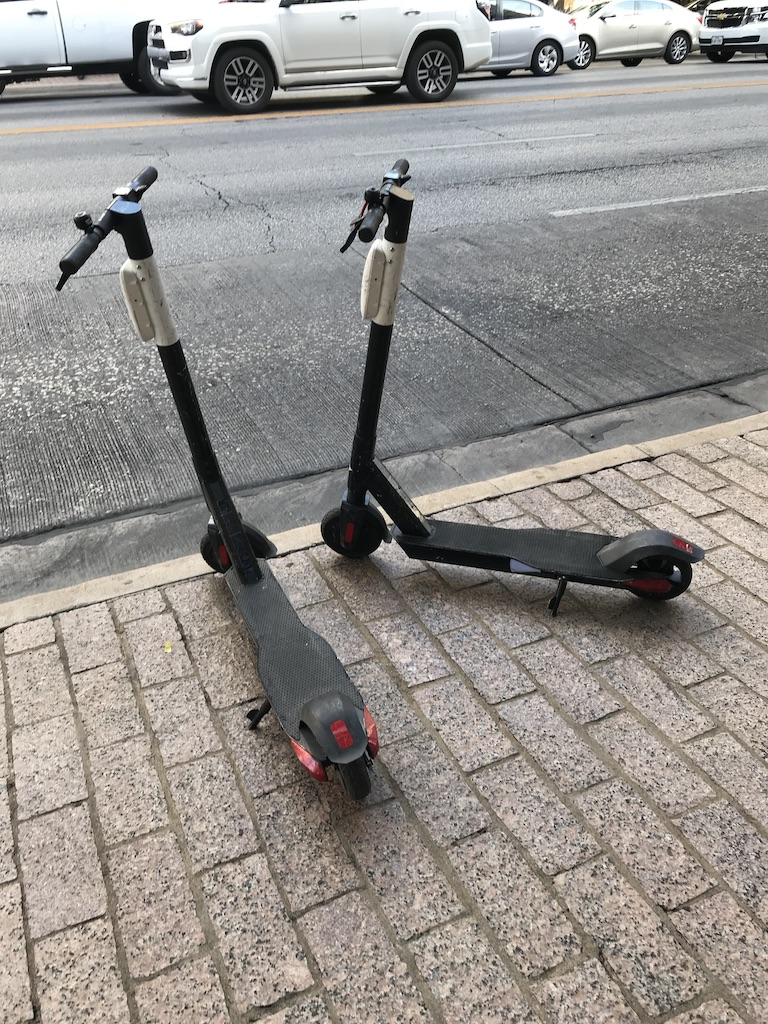scooter: (55, 163, 382, 802), (320, 159, 705, 604)
